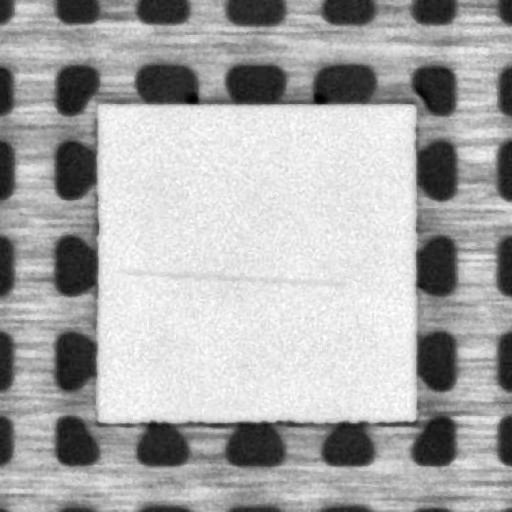DIE_CRACK: (112, 271, 343, 284)
